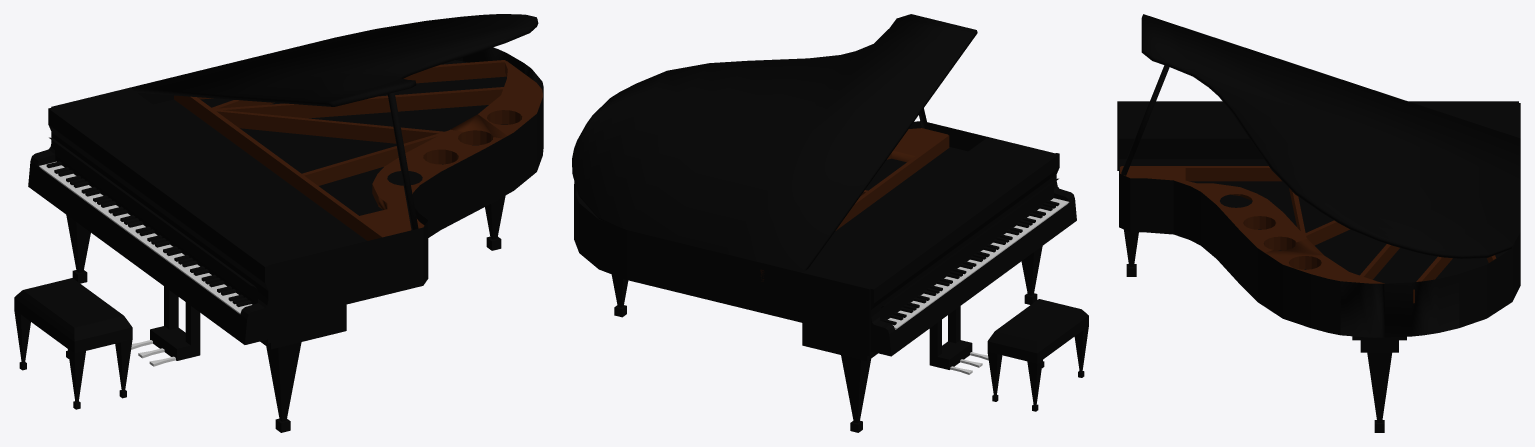
The model's file is piano.obj.
The picture shows the model from 3 angles, left to right: view 1: azimuth 30°, elevation 25°; view 2: azimuth 150°, elevation 25°; view 3: azimuth 270°, elevation 25°; orthographic projection. The views are drawn at different scales.
Parts seen in each view (by area): view 1: Cube.001, Cube.008, Cube.017_Cube.019, Cube.014, Cube.006, Cube.020_Cube.022, Cube.016_Cube.018, Cube.021_Cube.023, Cube.002, Cube.010, Cube.019_Cube.021, Cube.003 (+4 smaller); view 2: Cube.008, Cube.001, Cube.014, Cube.006, Cube.002, Cube.016_Cube.018, Cube.010, Cube.004, Cube.017_Cube.019, Cube.003, Cube.005; view 3: Cube.008, Cube.001, Cube.017_Cube.019, Cube.005, Cube.016_Cube.018, Cube.009, Cube.021_Cube.023, Cube.020_Cube.022, Cube.003, Cube.018_Cube.020.
Part boxes in pixels (left/top/right/bottom): Cube.001: left=28, top=47, right=543, bottom=349; Cube.008: left=130, top=14, right=538, bottom=106; Cube.017_Cube.019: left=357, top=60, right=542, bottom=236; Cube.014: left=14, top=278, right=132, bottom=409; Cube.006: left=39, top=161, right=252, bottom=314; Cube.020_Cube.022: left=207, top=86, right=510, bottom=125; Cube.016_Cube.018: left=174, top=95, right=385, bottom=240; Cube.021_Cube.023: left=209, top=109, right=446, bottom=143; Cube.002: left=49, top=137, right=257, bottom=302; Cube.010: left=150, top=286, right=200, bottom=360; Cube.019_Cube.021: left=301, top=131, right=446, bottom=185; Cube.003: left=266, top=342, right=301, bottom=432; Cube.008: left=572, top=14, right=977, bottom=272; Cube.001: left=574, top=121, right=1076, bottom=361; Cube.014: left=987, top=299, right=1088, bottom=411; Cube.006: left=883, top=198, right=1069, bottom=329; Cube.002: left=880, top=178, right=1058, bottom=319; Cube.016_Cube.018: left=760, top=135, right=949, bottom=281; Cube.010: left=929, top=306, right=972, bottom=369; Cube.004: left=841, top=355, right=870, bottom=432; Cube.017_Cube.019: left=887, top=128, right=947, bottom=162; Cube.003: left=1021, top=246, right=1042, bottom=304; Cube.005: left=611, top=274, right=628, bottom=317; Cube.008: left=1141, top=14, right=1520, bottom=258; Cube.001: left=1117, top=101, right=1520, bottom=337; Cube.017_Cube.019: left=1120, top=166, right=1384, bottom=283; Cube.005: left=1352, top=336, right=1406, bottom=432; Cube.016_Cube.018: left=1121, top=166, right=1281, bottom=181; Cube.009: left=1121, top=65, right=1169, bottom=175; Cube.021_Cube.023: left=1302, top=220, right=1349, bottom=245; Cube.020_Cube.022: left=1358, top=244, right=1399, bottom=279; Cube.003: left=1124, top=229, right=1138, bottom=276; Cube.018_Cube.020: left=1413, top=256, right=1452, bottom=303.
Bounding box in the file's own units: 11.1 × 6.36 × 8.12.
